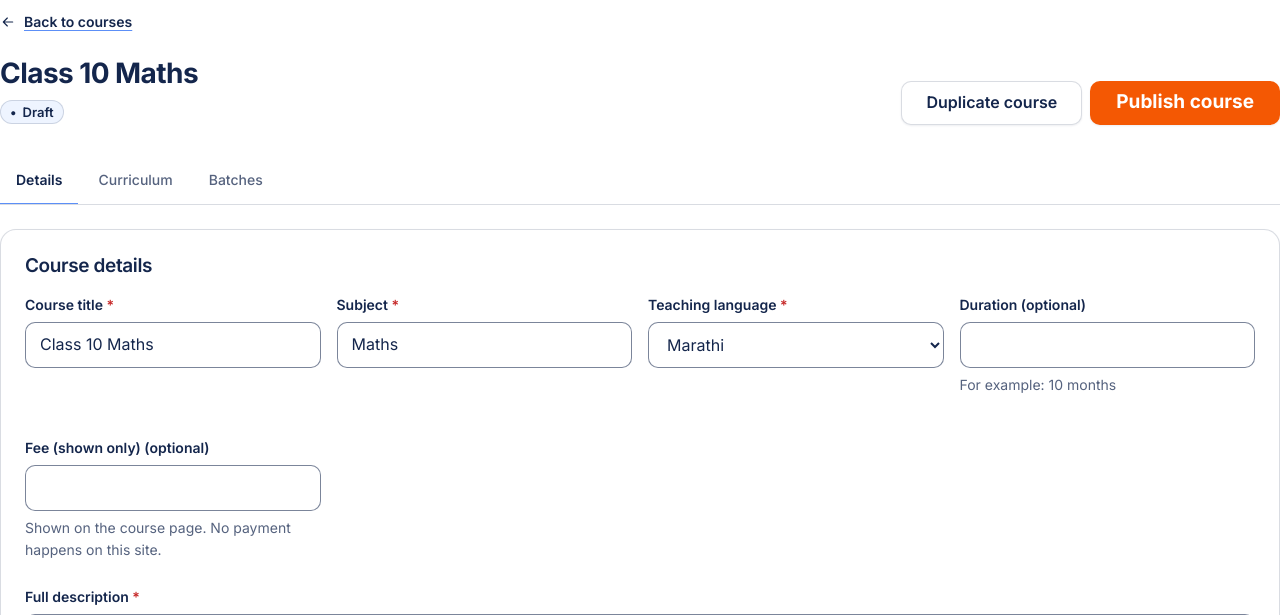
Test case: Duplicate course asks first, copies the course and opens the copy
Click the button "Duplicate course".
click(992, 103)  # box [901, 81, 1082, 125]
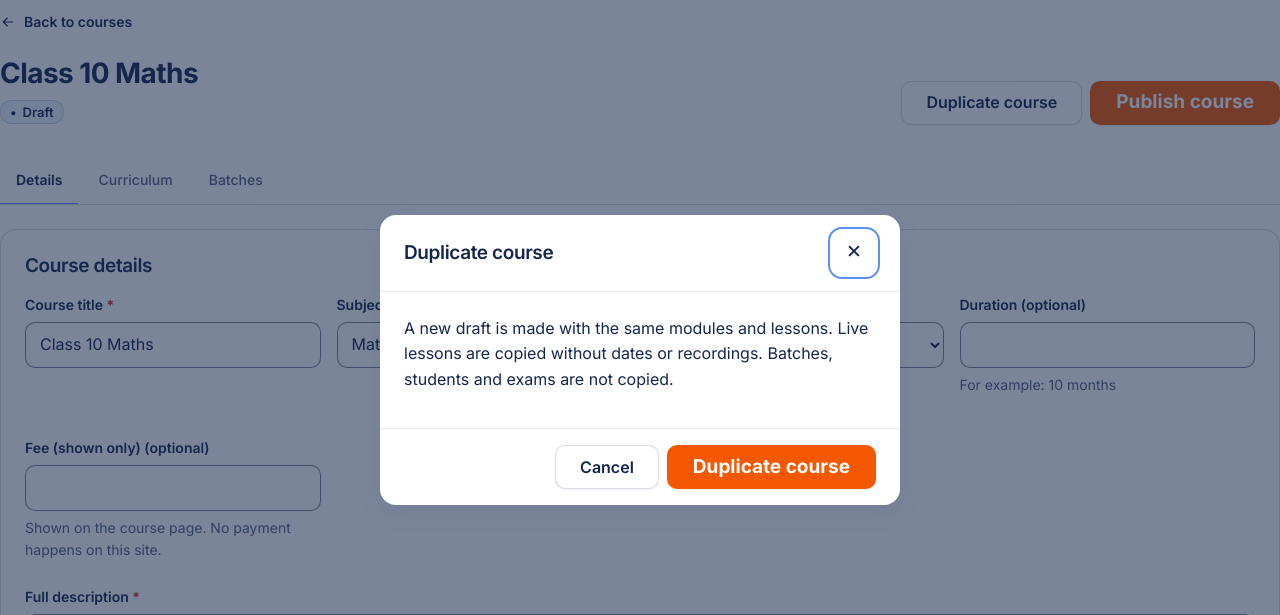
Now the dialog shows "Batches, students and exams are not copied", box [404, 318, 868, 389]
Click the button "Duplicate course".
click(771, 467)  # box [667, 445, 876, 489]
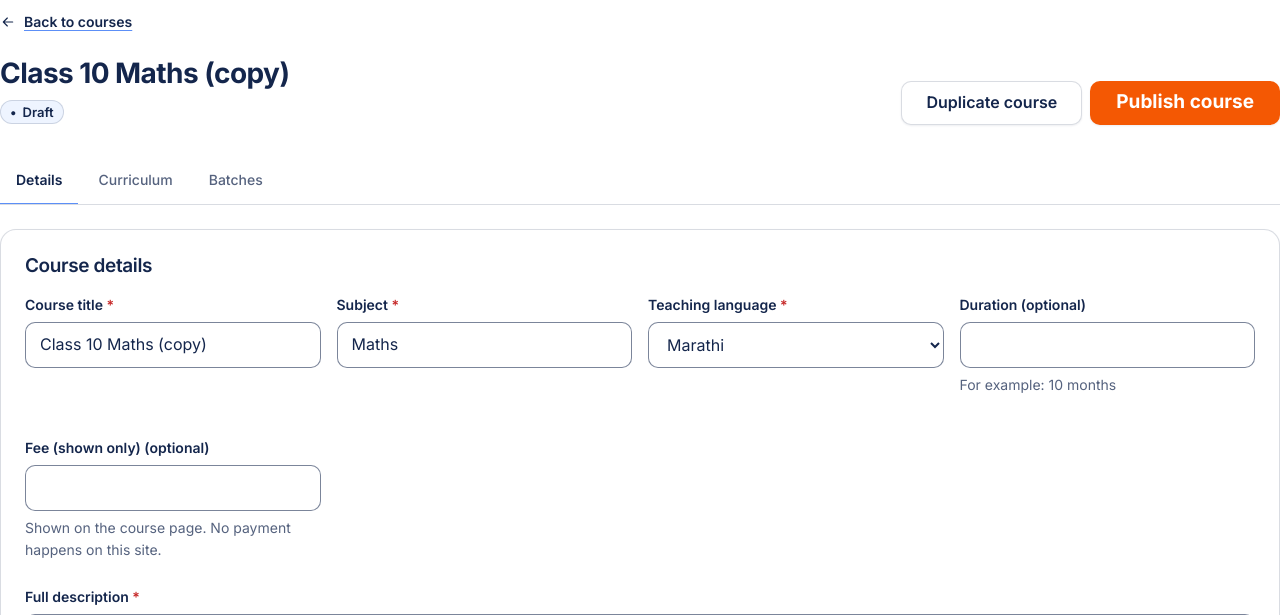
Now the heading "Class 10 Maths (copy)" is shown, box [0, 56, 289, 91]
